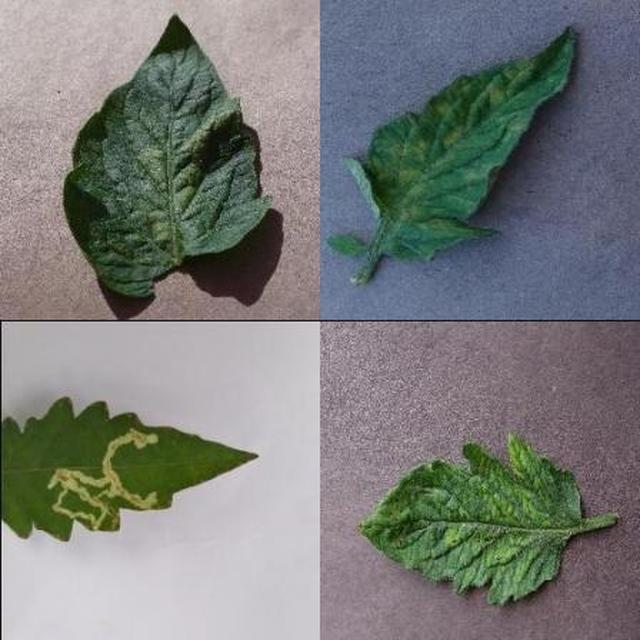Spider Mites Leaf: (187, 204, 640, 640)
